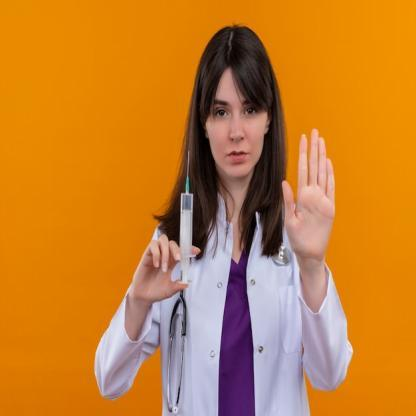stop: (280, 124, 338, 260)
